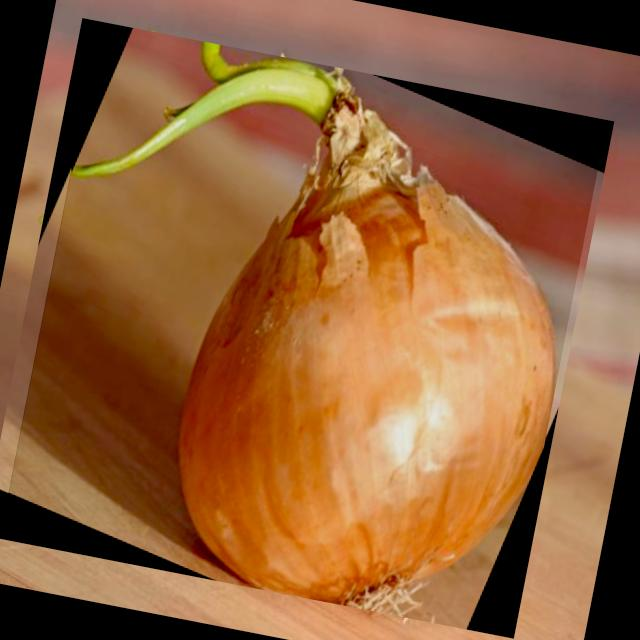sprouting: (72, 42, 553, 617)
